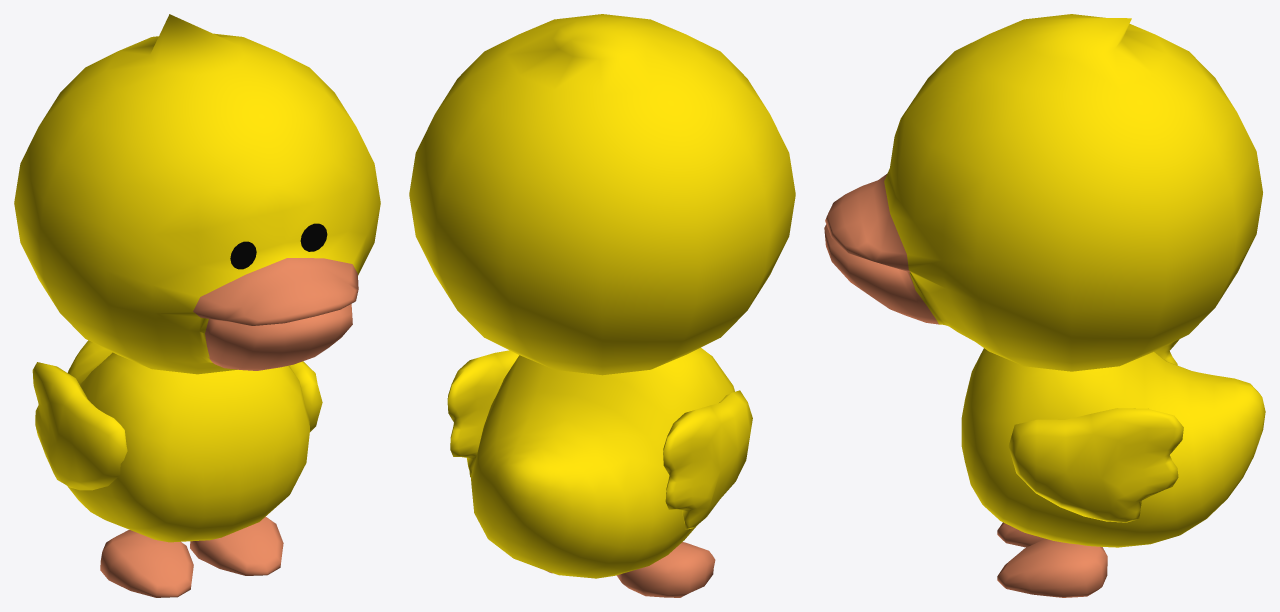
File: duck.dae
The picture shows the model from 3 angles, left to right: view 1: azimuth 30°, elevation 25°; view 2: azimuth 150°, elevation 25°; view 3: azimuth 270°, elevation 25°; orthographic projection. The views are drawn at different scales.
Visible parts, largest first — view 1: duck; view 2: duck; view 3: duck.
Boxes of the visible parts, bbox=[...] form: duck: bbox=[14, 14, 380, 597]; duck: bbox=[409, 14, 795, 597]; duck: bbox=[824, 14, 1265, 597].
Bounding box in the file's own units: 0.1501 × 0.173 × 0.2381.
